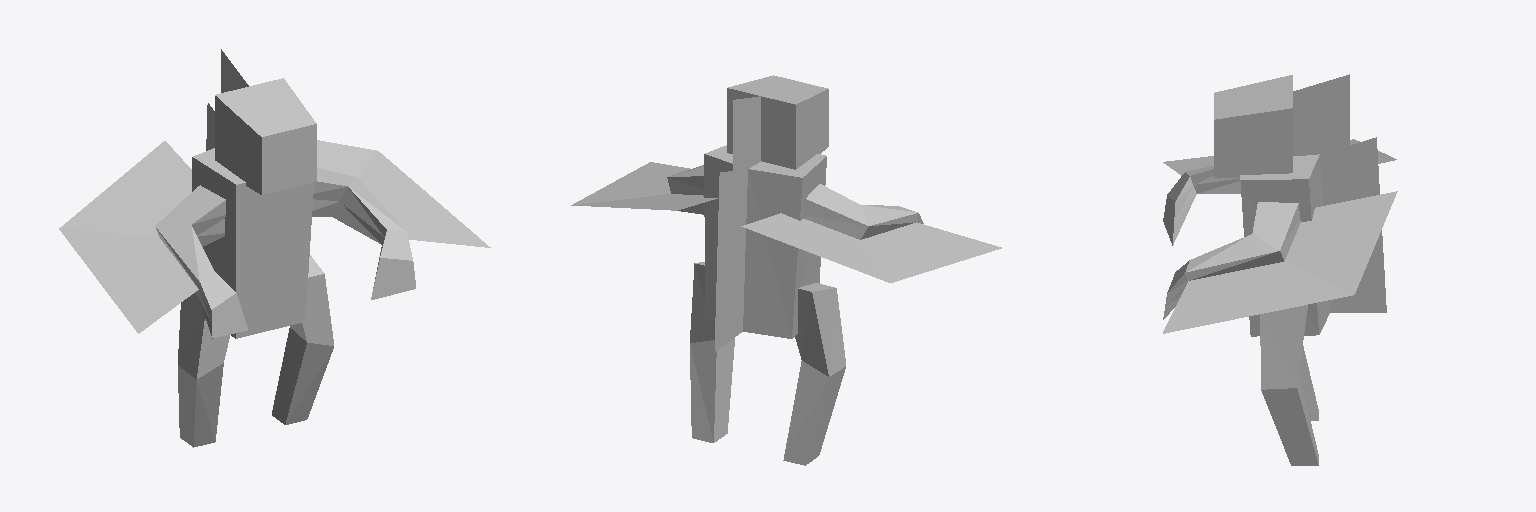
The model's file is lacedon.obj.
3 views of the same model, side by side, from view 1: azimuth 30°, elevation 25°; view 2: azimuth 150°, elevation 25°; view 3: azimuth 270°, elevation 25° (orthographic).
Parts seen in each view (by area): view 1: RightArm, Body, LeftArm, Head, RightLeg, LeftLeg; view 2: Body, RightArm, Head, RightLeg, LeftLeg, LeftArm; view 3: LeftArm, Head, Body, LeftLeg, RightArm, RightLeg.
Boxes of the visible parts, x1,y1,x2,y2 form: RightArm: [59, 141, 247, 338]; Body: [192, 103, 313, 338]; LeftArm: [312, 140, 490, 299]; Head: [215, 49, 316, 194]; RightLeg: [178, 293, 229, 447]; LeftLeg: [272, 255, 333, 424]; Body: [704, 145, 826, 351]; RightArm: [741, 184, 1001, 282]; Head: [727, 75, 828, 171]; RightLeg: [783, 283, 845, 465]; LeftLeg: [690, 262, 734, 442]; LeftArm: [571, 162, 717, 214]; LeftArm: [1163, 191, 1397, 333]; Head: [1214, 74, 1349, 178]; Body: [1240, 137, 1386, 336]; LeftLeg: [1260, 305, 1318, 465]; RightArm: [1163, 139, 1396, 245]; RightLeg: [1299, 346, 1318, 420].
Bounding box in the file's own units: 2.15 × 2.11 × 1.24.